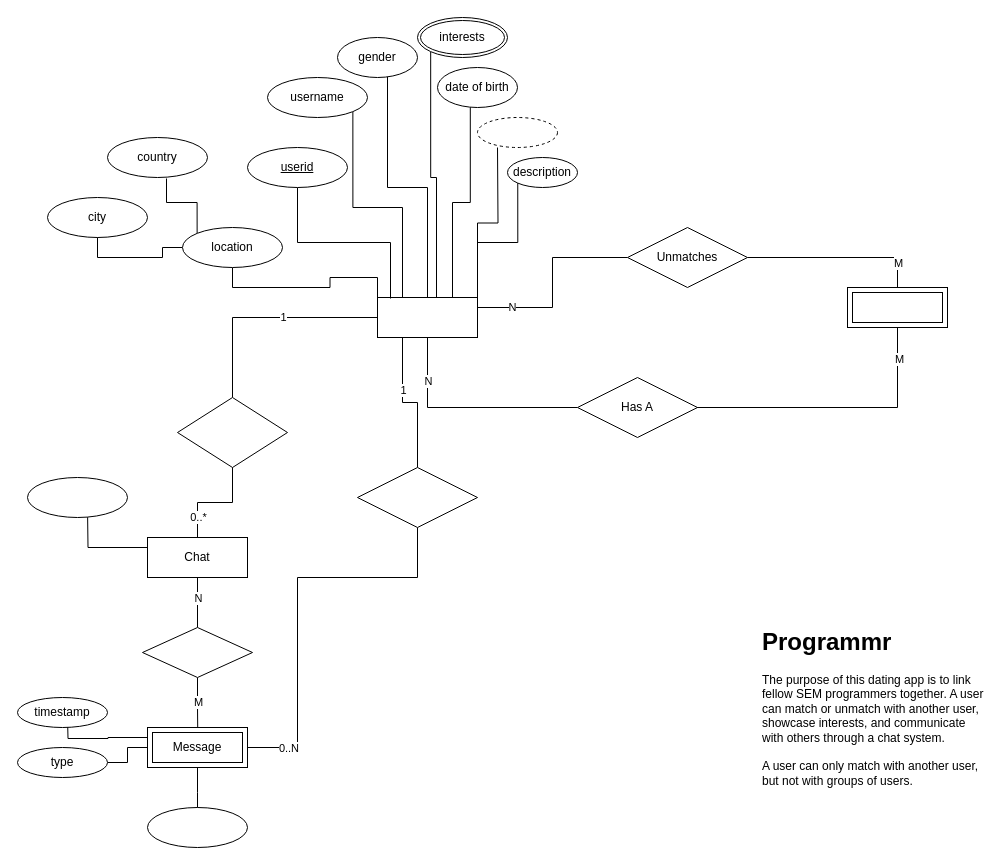
The diagram is 1005 pixels wide and 865 high, and some of its shapes have lost their labels. The centre of each missing label's shape, as x and y in pixels:
"age" belongs at (517,132).
"chat ID" belongs at (77,497).
"Communicates" belongs at (232,432).
"Contains" belongs at (197,652).
"content" belongs at (197,827).
"Match" belongs at (897,307).
"Sends" belongs at (417,497).
"User" belongs at (427,317).
